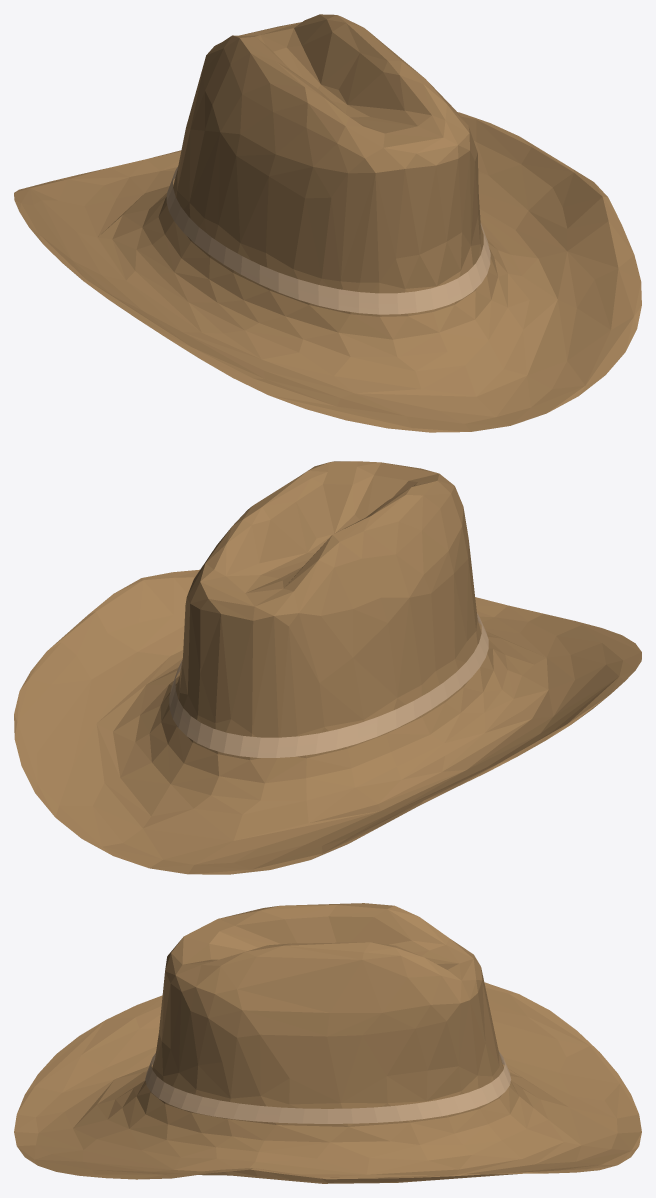
File: hat-cowboy.glb
3 renders of one model, top to bottom at view 1: azimuth 30°, elevation 25°; view 2: azimuth 150°, elevation 25°; view 3: azimuth 270°, elevation 25°, orthographic. The views are drawn at different scales.
Parts seen in each view (by area): view 1: Hat, ring; view 2: Hat, ring; view 3: Hat, ring.
Boxes of the visible parts, box(x1,y1,x2,y2) form: Hat: box(14, 14, 641, 432); ring: box(166, 166, 490, 314); Hat: box(14, 461, 641, 874); ring: box(169, 613, 488, 757); Hat: box(14, 903, 641, 1183); ring: box(145, 1051, 511, 1123).
Bounding box in the file's own units: 7.05 × 3.34 × 9.08.
